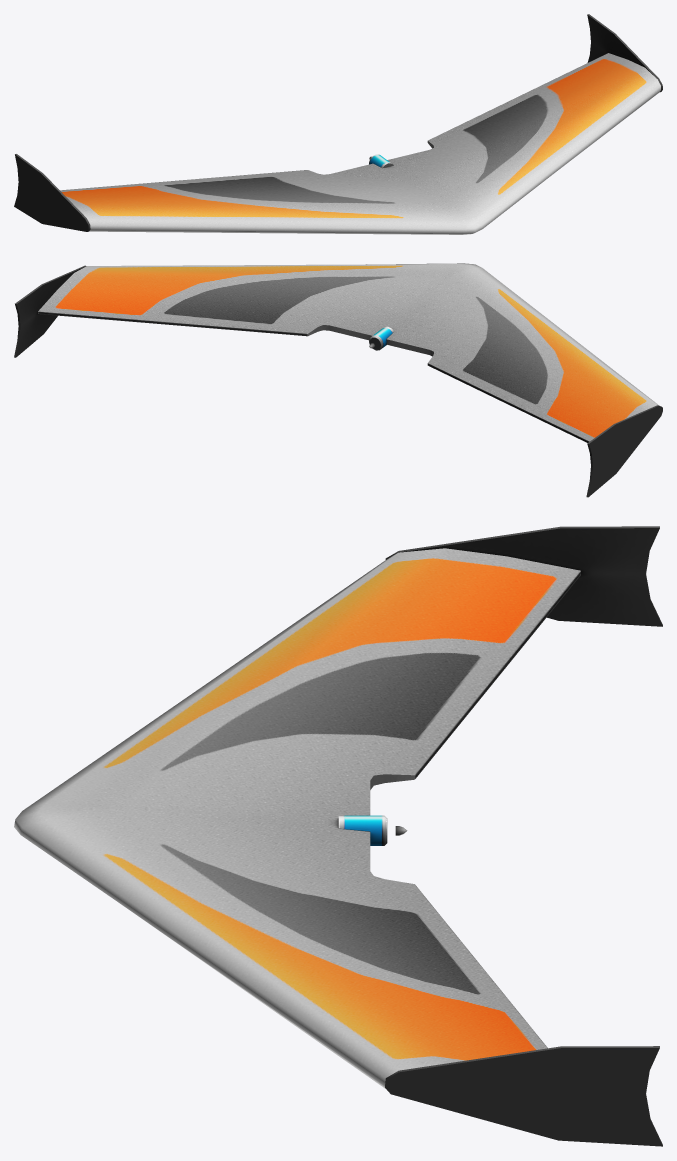
The model's file is wing_only.dae.
3 views of the same model, one above another, from view 1: azimuth 30°, elevation 25°; view 2: azimuth 150°, elevation 25°; view 3: azimuth 270°, elevation 25° (orthographic). The views are drawn at different scales.
Visible parts, largest first — view 1: Wing; view 2: Wing; view 3: Wing.
Part boxes in pixels (x1,y1,x2,y2): Wing: [14, 14, 662, 234]; Wing: [14, 263, 662, 497]; Wing: [14, 526, 662, 1146].
Size of the model in its own units: 1.53 by 0.8067 by 0.1354.
1 material, 1 textured.
